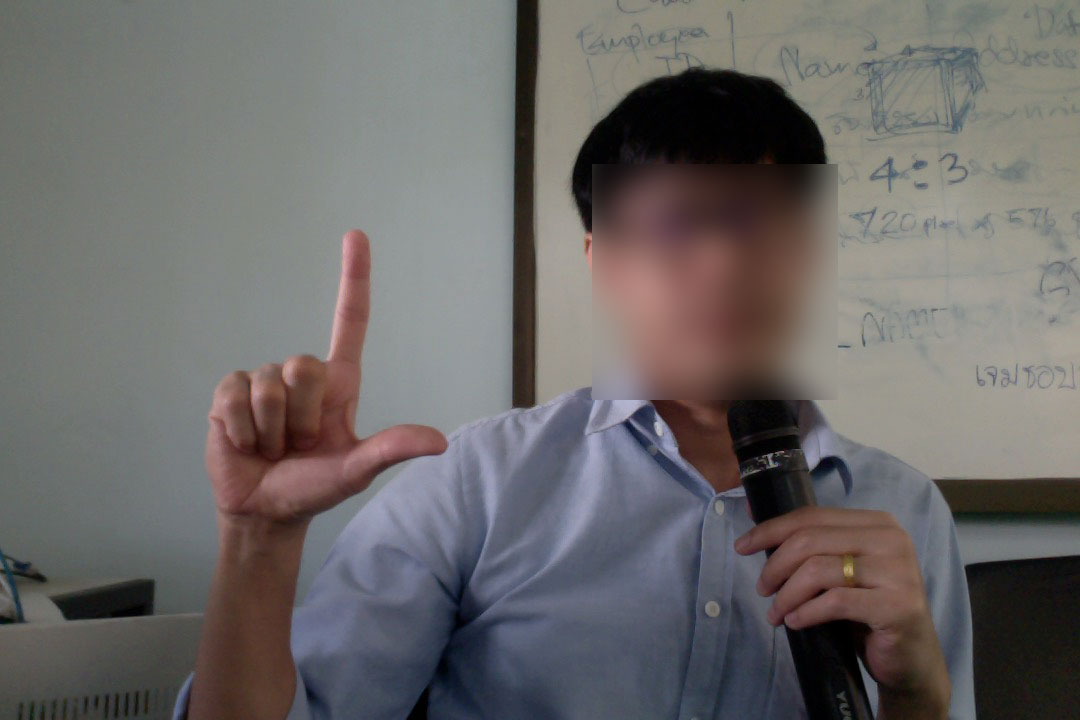lor: (192, 220, 464, 565)
